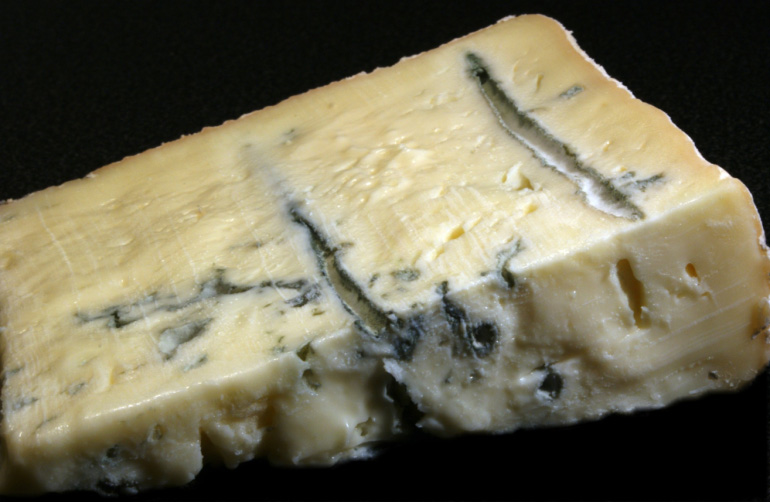Penicillium: (461, 53, 645, 227), (288, 219, 414, 346), (102, 290, 244, 357), (434, 281, 522, 365), (533, 369, 568, 404)
